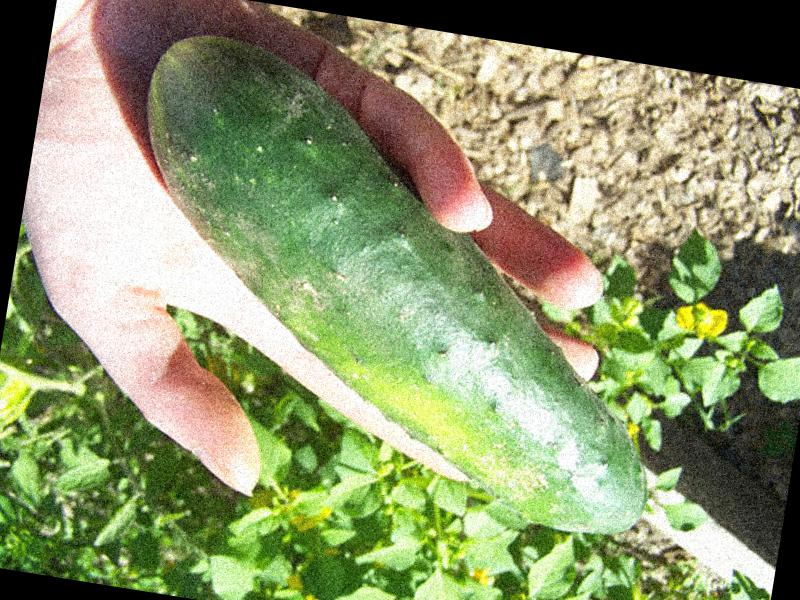Cucumber: (93, 29, 709, 541)
